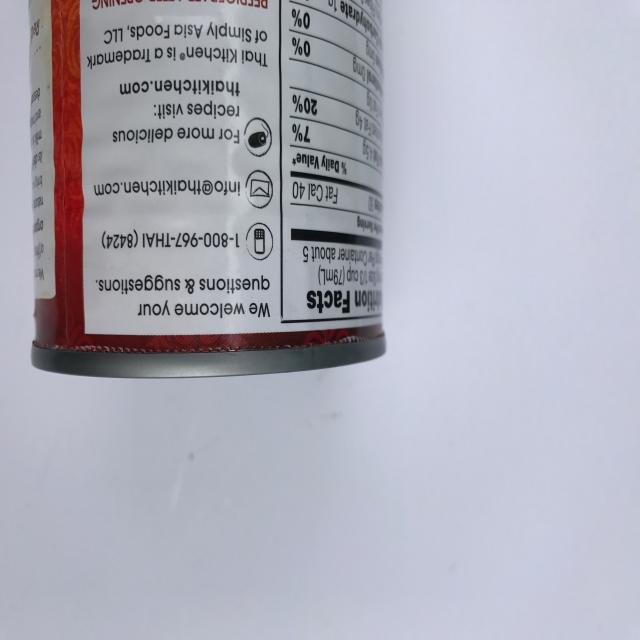metal: (28, 2, 388, 379)
